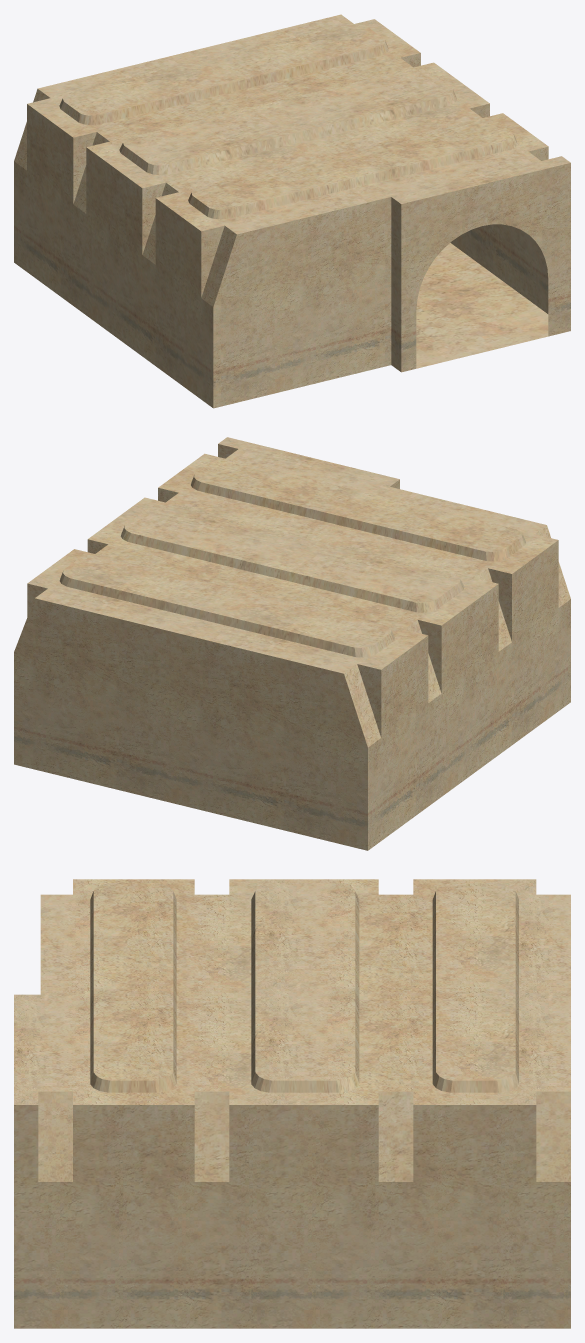
File: thm_tato_cantina_r13_private_room2_mesh_r13.fbx
The picture shows the model from 3 angles, top to bottom: view 1: azimuth 30°, elevation 25°; view 2: azimuth 150°, elevation 25°; view 3: azimuth 270°, elevation 25°; orthographic projection. The views are drawn at different scales.
Visible parts, largest first — view 1: mesh_node; view 2: mesh_node; view 3: mesh_node.
Boxes of the visible parts, x1,y1,x2,y2 form: mesh_node: (14,14,570,408); mesh_node: (14,437,570,850); mesh_node: (14,879,570,1328).
Bounding box in the file's own units: 10 × 4.84 × 10.44.
Materials: 3 (3 with a texture image).
